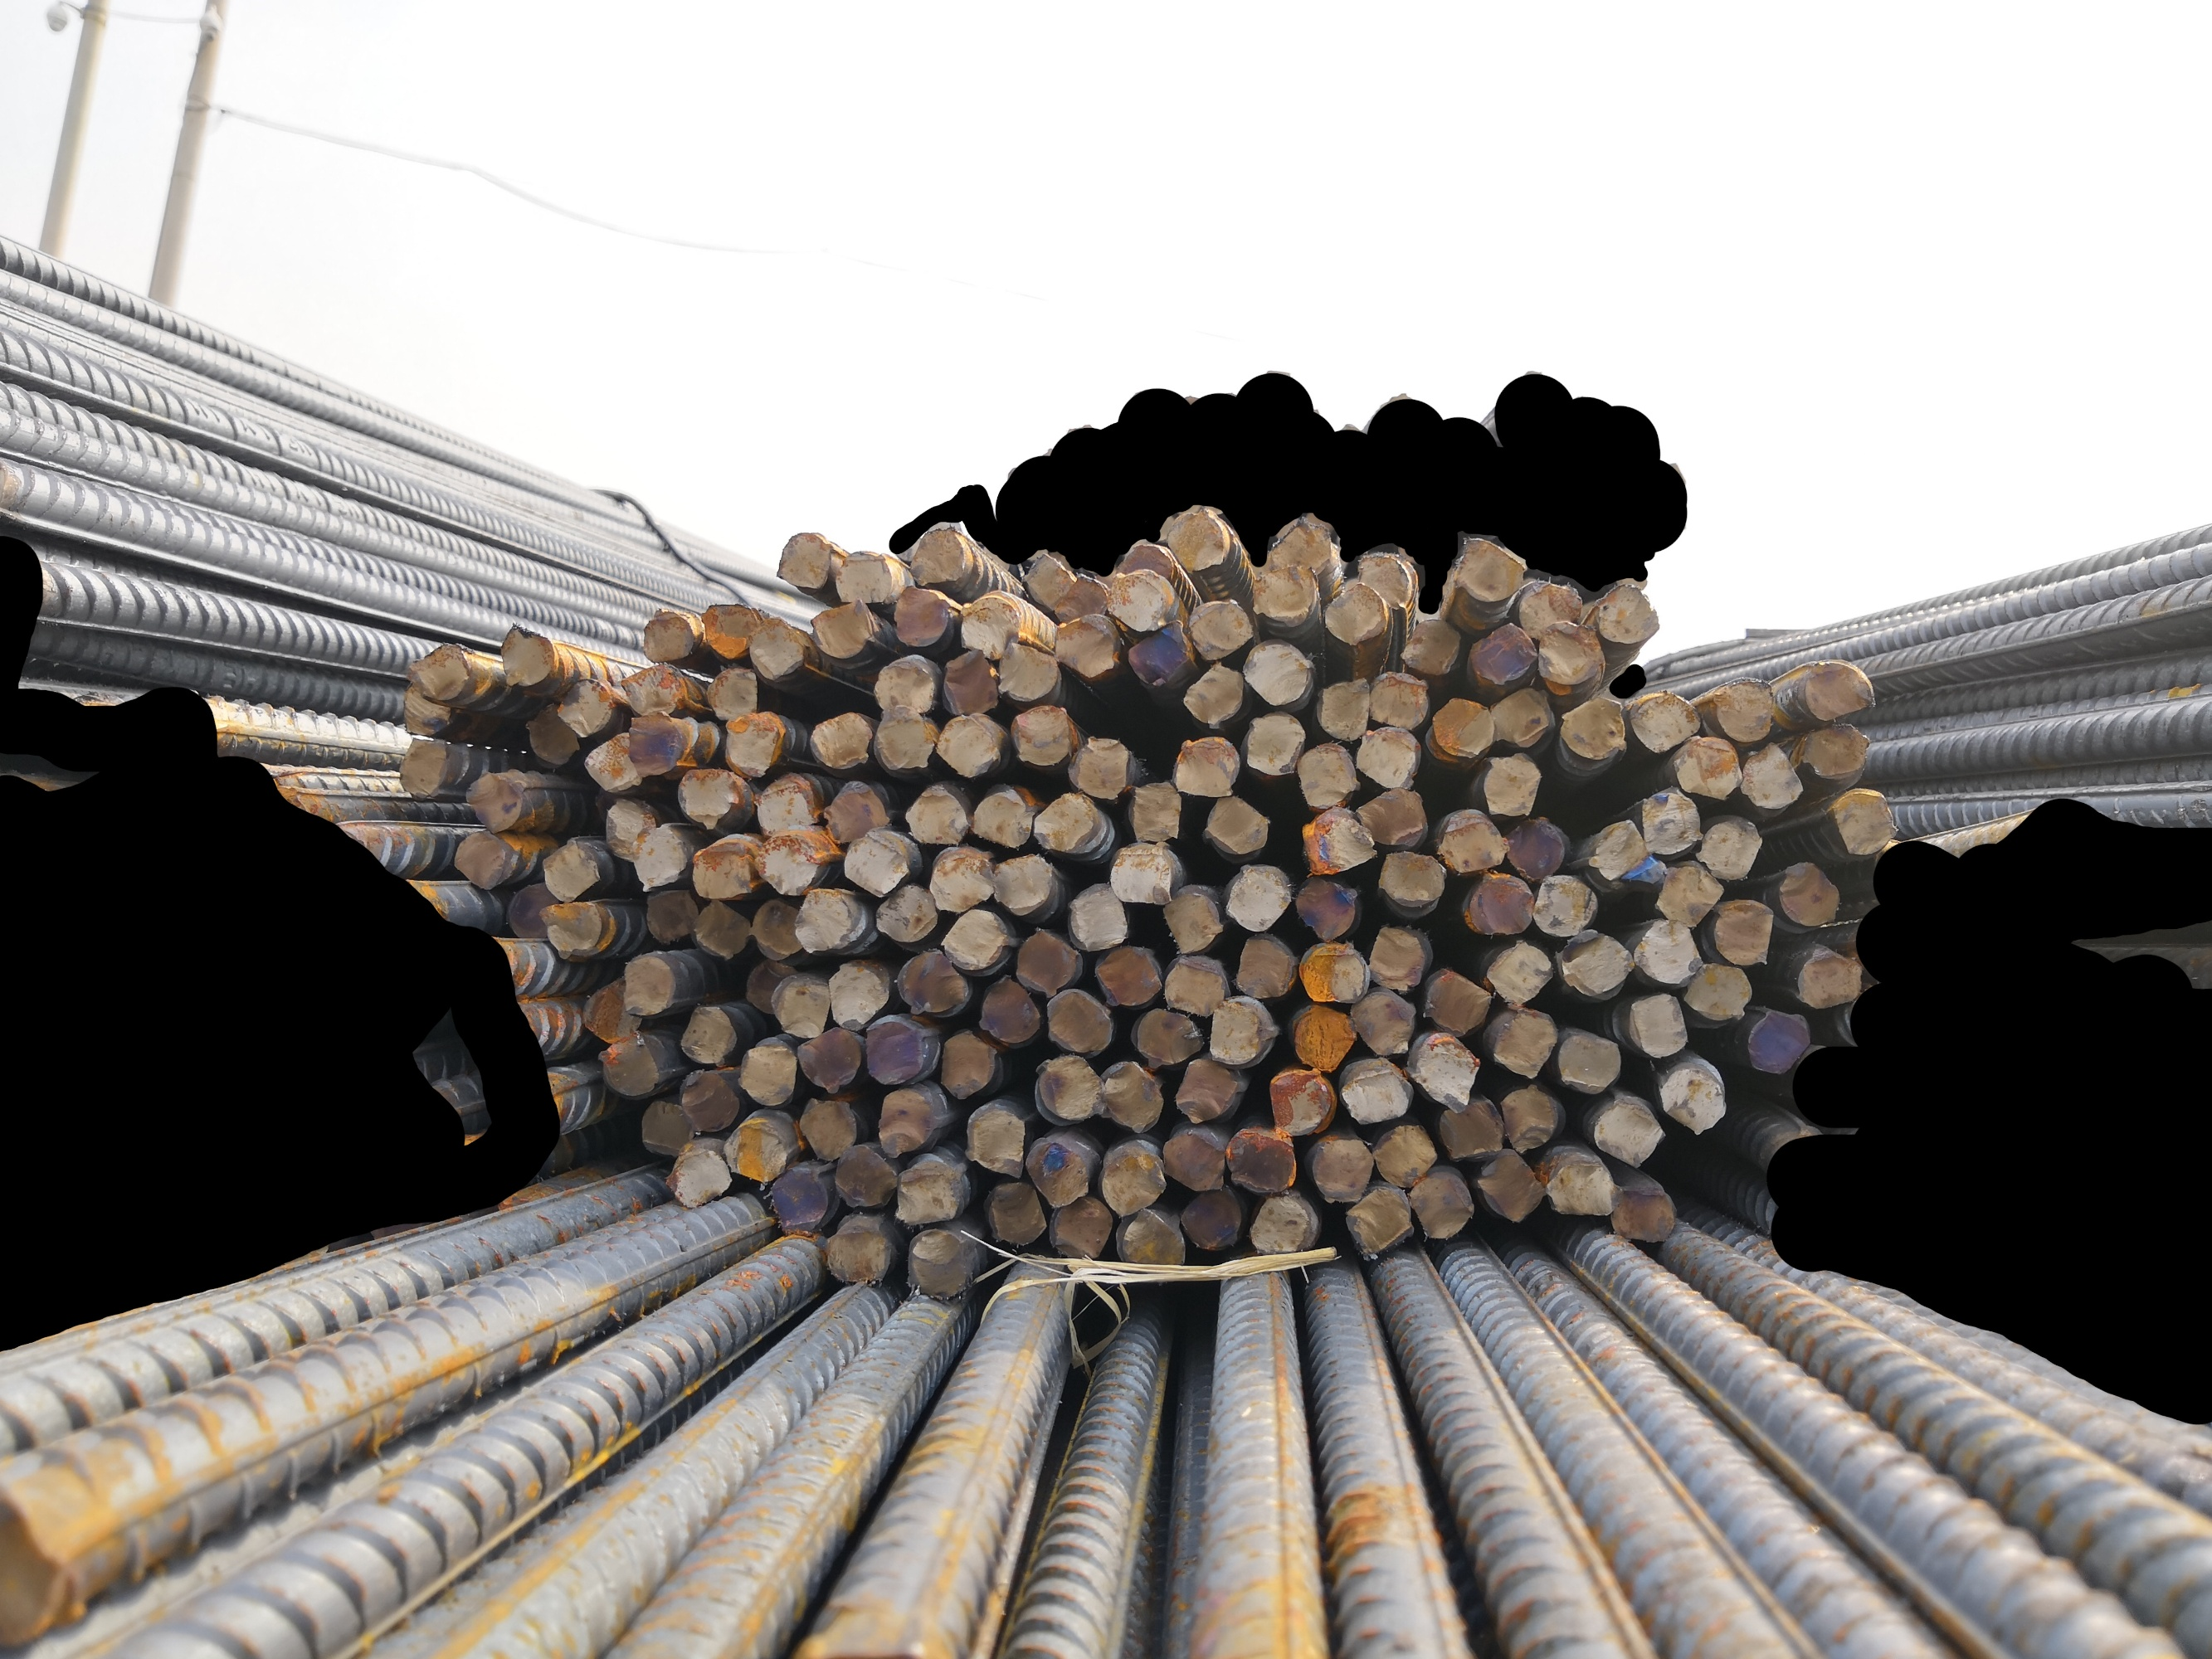rebar: (1408, 1023, 1482, 1112), (1471, 1145, 1550, 1225), (1295, 803, 1377, 880), (1537, 1147, 1618, 1223), (1586, 1096, 1670, 1169), (1032, 1047, 1109, 1126), (1555, 925, 1637, 999), (1042, 985, 1117, 1063), (1478, 936, 1557, 1011), (1586, 816, 1665, 890), (816, 774, 894, 847), (1264, 511, 1339, 586), (1827, 784, 1902, 859), (1342, 1182, 1414, 1260), (1487, 1004, 1558, 1082), (1353, 782, 1433, 852), (1422, 962, 1496, 1037), (1156, 951, 1232, 1023), (1236, 636, 1313, 708), (1464, 613, 1541, 685), (1705, 669, 1776, 746), (1020, 1133, 1089, 1211), (1628, 687, 1706, 756), (1126, 1004, 1206, 1072), (1227, 1124, 1300, 1197), (1658, 1063, 1731, 1136), (1011, 924, 1082, 999), (1288, 1002, 1363, 1073), (1555, 1021, 1625, 1098), (1450, 533, 1527, 603), (1797, 655, 1874, 725), (1680, 953, 1757, 1023), (1637, 777, 1705, 856), (960, 1101, 1027, 1182), (1647, 864, 1727, 931), (1100, 1054, 1164, 1136), (898, 946, 971, 1018), (1123, 619, 1196, 690), (1222, 861, 1293, 934), (1408, 1169, 1480, 1243), (1171, 1054, 1241, 1129), (1307, 1131, 1377, 1206), (1431, 1094, 1506, 1164), (1607, 1176, 1682, 1246), (1536, 617, 1605, 692), (838, 831, 915, 899), (1496, 1079, 1560, 1159), (1292, 739, 1363, 810), (1673, 732, 1745, 803), (1774, 856, 1846, 927), (899, 1225, 969, 1298), (985, 849, 1055, 922), (931, 711, 1001, 784), (1206, 992, 1267, 1075), (1593, 577, 1666, 647), (870, 699, 938, 774), (1063, 880, 1131, 955), (1299, 938, 1374, 1006), (1435, 809, 1510, 877), (1632, 917, 1706, 985), (1088, 943, 1164, 1009), (1325, 575, 1391, 652), (1696, 805, 1762, 882), (1797, 720, 1876, 784), (664, 1140, 734, 1211), (901, 777, 973, 847), (976, 976, 1046, 1047), (1096, 1147, 1166, 1218), (1027, 784, 1096, 856), (1107, 842, 1178, 911), (1175, 657, 1246, 727), (1353, 721, 1422, 793), (1797, 941, 1867, 1012), (593, 1028, 661, 1101), (673, 1063, 741, 1136), (1175, 1183, 1248, 1251), (1182, 594, 1255, 662), (1171, 727, 1239, 800), (1265, 1065, 1333, 1138), (1462, 870, 1536, 938), (1532, 868, 1600, 941), (1743, 1009, 1816, 1077), (1121, 1202, 1187, 1277), (1067, 725, 1133, 800), (1156, 1127, 1231, 1194), (936, 641, 1001, 718), (830, 1141, 899, 1211), (859, 1018, 929, 1087), (1347, 990, 1417, 1060), (750, 833, 821, 901), (936, 904, 1008, 972), (953, 591, 1021, 662), (1426, 692, 1497, 760), (926, 850, 999, 917), (1241, 709, 1307, 782), (824, 957, 889, 1032), (1100, 568, 1175, 633), (1245, 561, 1320, 626), (936, 1026, 999, 1103), (763, 971, 833, 1039), (983, 1176, 1051, 1246), (967, 782, 1037, 850), (1245, 1190, 1314, 1258), (1708, 897, 1776, 967), (873, 1086, 940, 1157), (891, 1162, 962, 1229), (1487, 685, 1558, 751), (1555, 694, 1626, 760), (1480, 749, 1546, 821), (390, 735, 464, 800), (1048, 613, 1121, 678), (1198, 791, 1271, 856), (1295, 873, 1360, 946), (1339, 1066, 1415, 1127), (1365, 918, 1426, 995), (720, 1119, 788, 1187), (1518, 577, 1586, 645), (1740, 742, 1808, 810), (495, 620, 561, 690), (1048, 1192, 1114, 1262), (596, 793, 661, 864), (765, 1166, 830, 1237), (1157, 890, 1229, 955), (1626, 990, 1691, 1061), (795, 1091, 856, 1166), (577, 978, 645, 1044), (795, 1023, 861, 1091), (689, 836, 757, 903), (807, 594, 873, 662), (1365, 666, 1431, 734), (1503, 814, 1569, 882), (734, 1039, 798, 1108), (1234, 929, 1295, 1002), (1374, 845, 1447, 906), (718, 713, 784, 779), (786, 890, 854, 955), (997, 640, 1065, 704), (1370, 1119, 1435, 1187), (804, 709, 875, 770), (401, 641, 474, 701), (1314, 669, 1372, 744), (462, 770, 526, 836), (884, 586, 950, 650), (1008, 704, 1074, 769), (1398, 615, 1464, 680), (690, 894, 753, 962), (870, 657, 938, 720), (824, 1222, 894, 1283), (1124, 777, 1185, 847), (535, 840, 600, 904), (622, 713, 687, 777), (769, 528, 833, 592), (676, 1002, 739, 1068), (1164, 507, 1227, 573), (617, 955, 685, 1016), (737, 951, 798, 1019), (535, 899, 605, 958), (579, 730, 643, 793), (1351, 549, 1414, 613), (519, 702, 580, 769), (906, 526, 973, 587), (504, 878, 563, 946), (870, 884, 938, 943), (628, 824, 685, 894), (553, 676, 615, 739), (753, 775, 816, 838), (746, 896, 804, 964), (699, 601, 767, 659), (450, 829, 509, 892), (638, 1093, 694, 1159), (676, 767, 743, 823), (394, 680, 455, 739), (638, 889, 701, 946), (831, 549, 896, 605), (619, 662, 685, 716), (750, 617, 804, 681), (640, 606, 695, 667), (1110, 538, 1178, 587), (1020, 551, 1074, 612), (1051, 570, 1112, 624), (706, 666, 760, 725), (589, 784, 631, 823)
